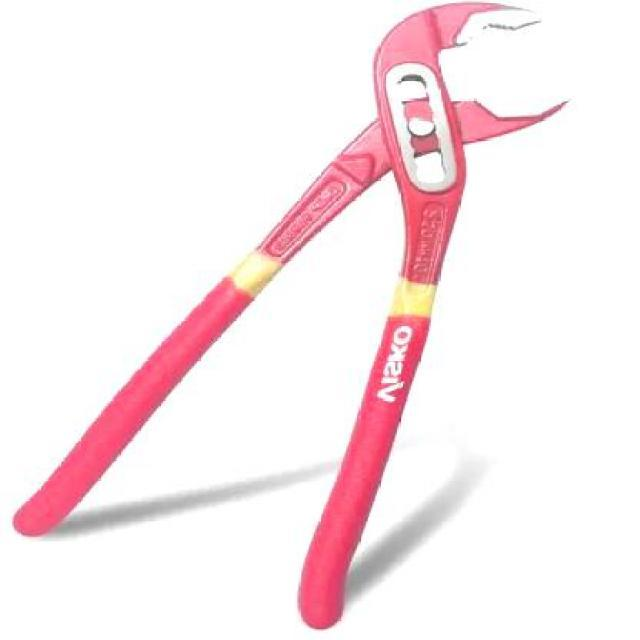pliers: (13, 1, 576, 628)
